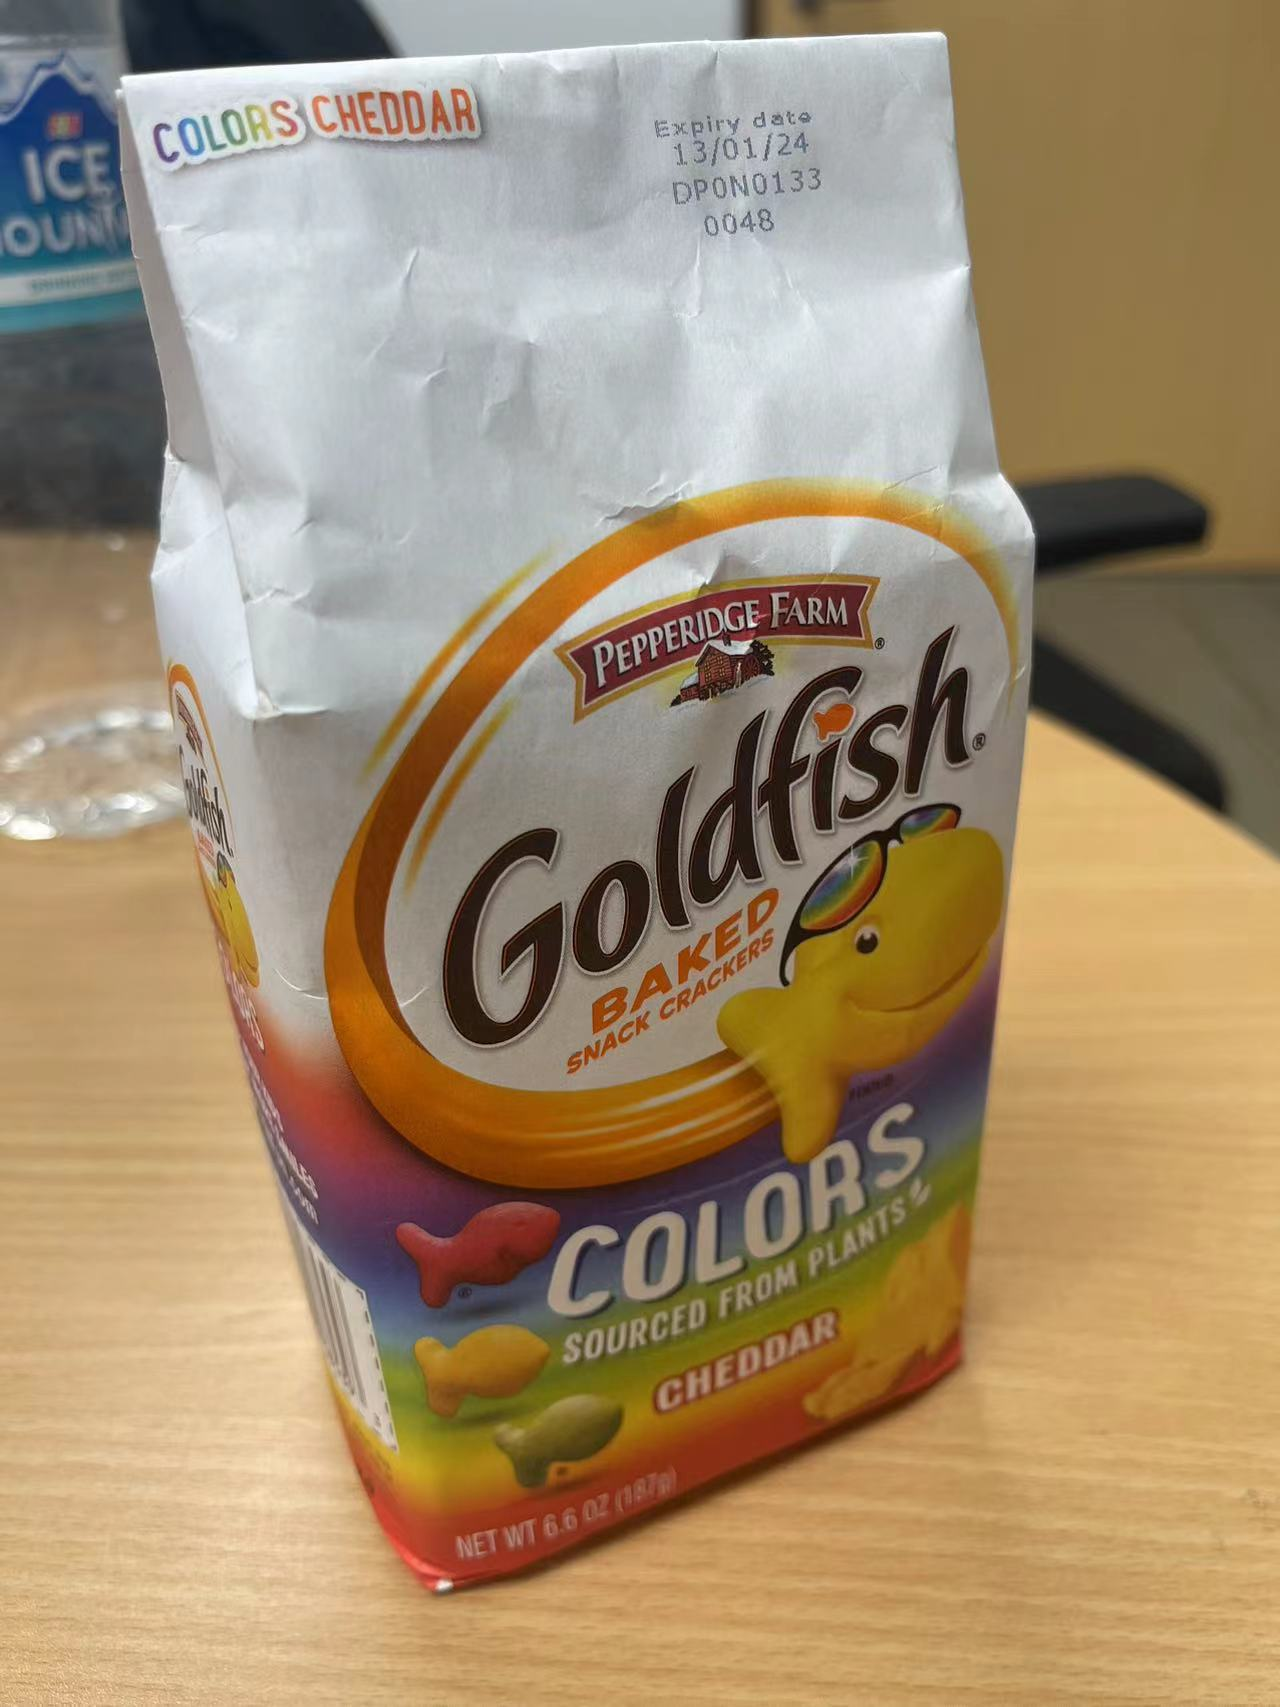Crackers_100-199g_NonHalal_NonHealthy: (132, 73, 1043, 1579)
